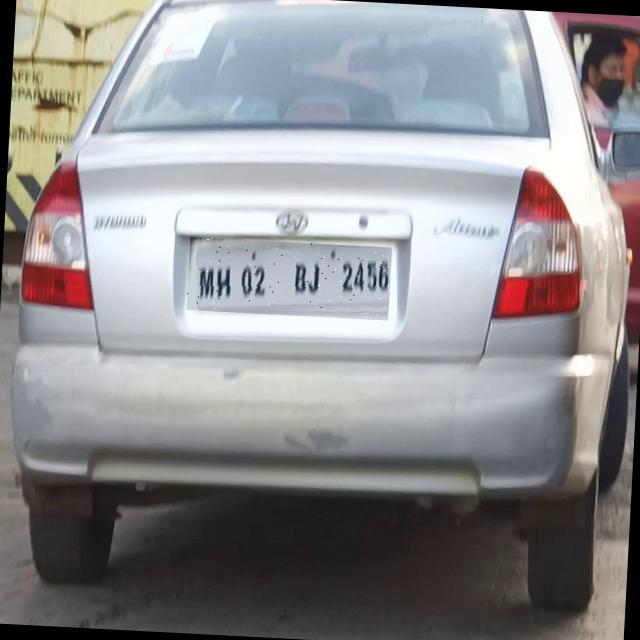Plate: (187, 239, 393, 322)
